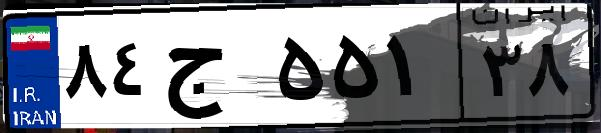1: (385, 28, 445, 110)
3: (475, 38, 525, 113)
4: (110, 28, 158, 98)
5: (270, 28, 330, 110), (330, 28, 385, 110)
8: (57, 26, 110, 100), (525, 38, 570, 115)
ج: (158, 20, 270, 120)
